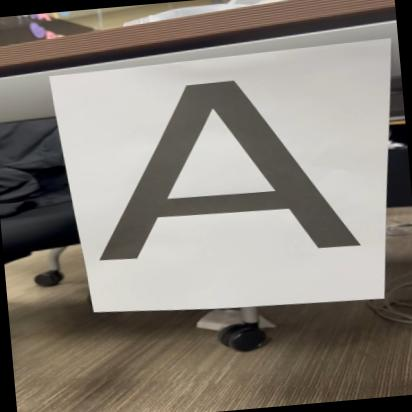seat: (67, 63, 378, 273)
